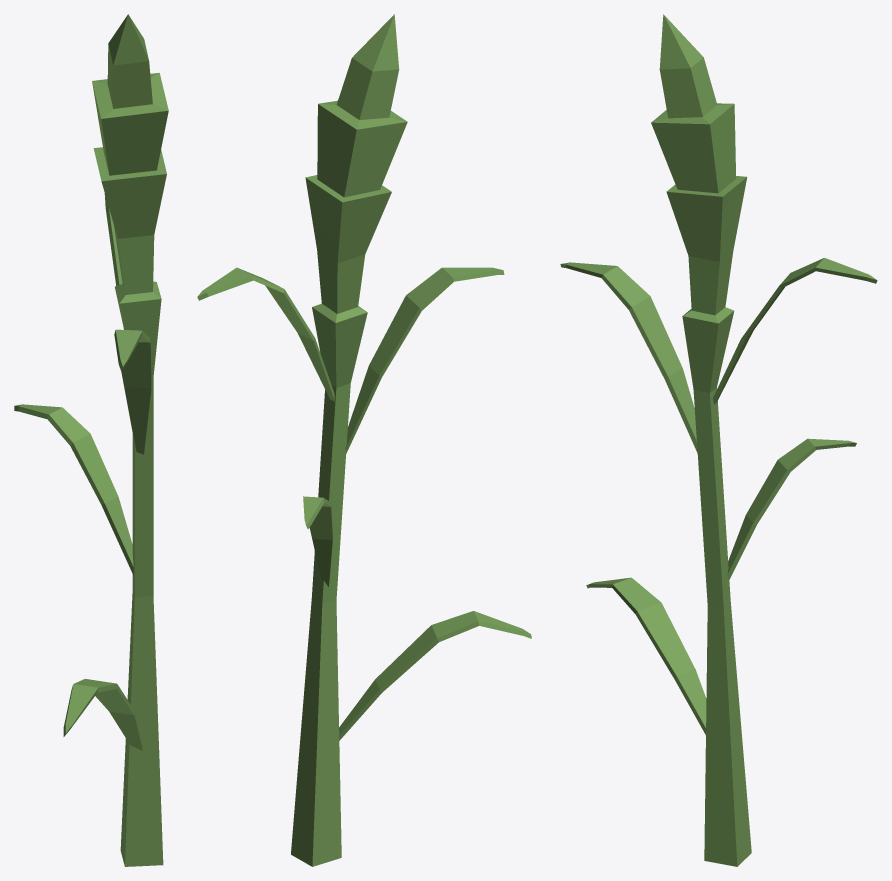
Rendered from Wheat_3.glb.
3 renders of one model, left to right at view 1: azimuth 30°, elevation 25°; view 2: azimuth 150°, elevation 25°; view 3: azimuth 270°, elevation 25°, orthographic. The views are drawn at different scales.
Parts seen in each view (by area): view 1: Wheat_3_Cube.000; view 2: Wheat_3_Cube.000; view 3: Wheat_3_Cube.000.
Boxes of the visible parts, x1,y1,x2,y2 form: Wheat_3_Cube.000: (14, 14, 168, 866); Wheat_3_Cube.000: (197, 14, 531, 866); Wheat_3_Cube.000: (560, 14, 877, 866).
Size of the model in its own units: 0.1648 by 0.6943 by 0.2431.
